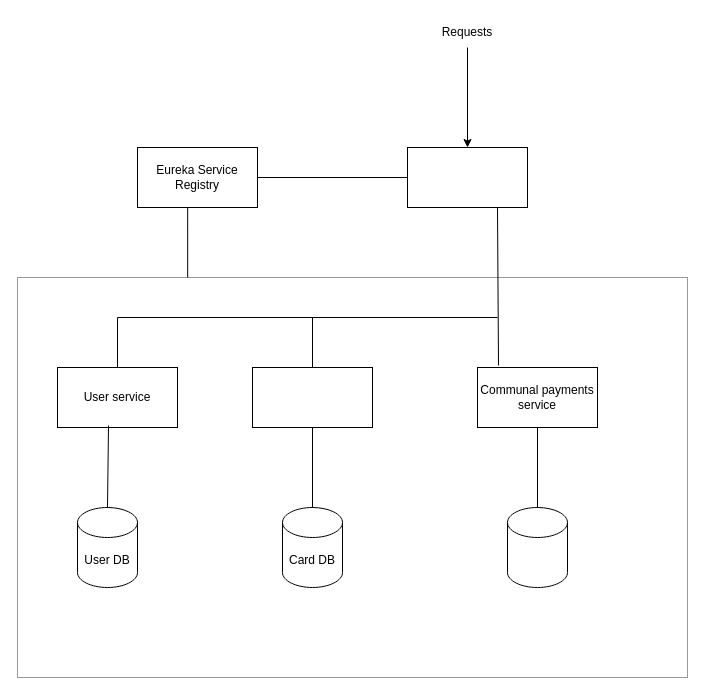
This 705x695 diagram has some shape labels left out. Here are the shapes that lost their labels. From the top down, the centre of each, then its label:
At point 467,177: "API Gateway service".
At point 312,397: "Card service".
At point 537,547: "Communal DB".
